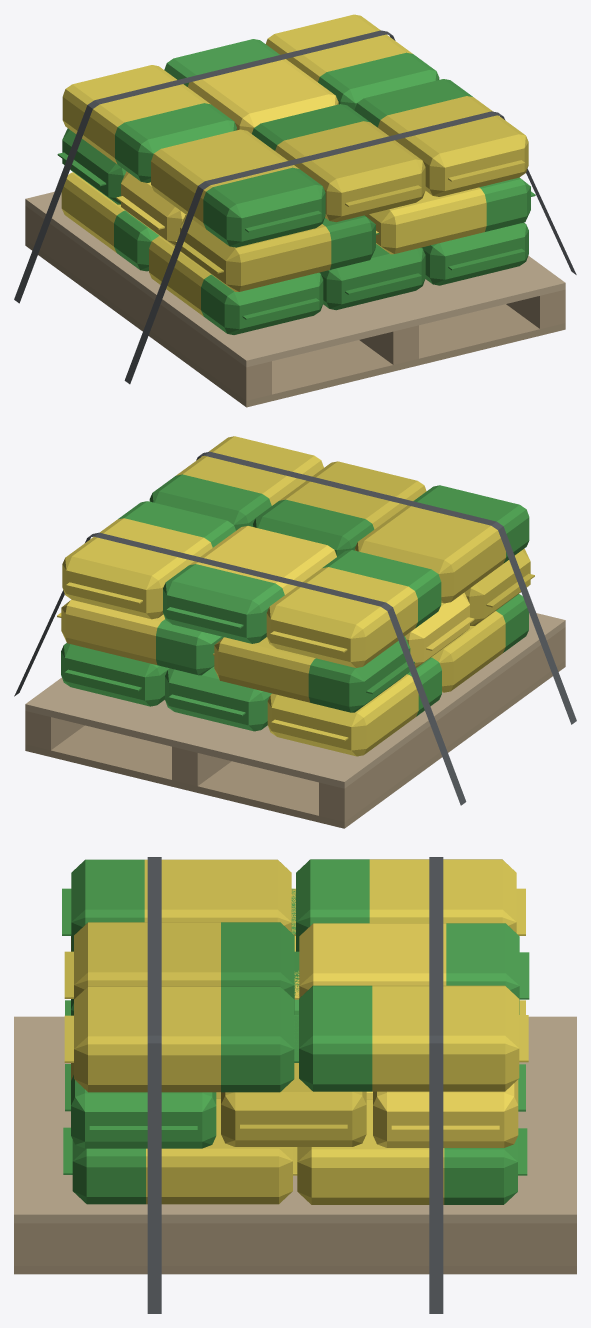
The model's file is potting-soil-pallet.glb.
The picture shows the model from 3 angles, top to bottom: view 1: azimuth 30°, elevation 25°; view 2: azimuth 150°, elevation 25°; view 3: azimuth 270°, elevation 25°; orthographic projection. The views are drawn at different scales.
Parts seen in each view (by area): view 1: PottingSoilPallet_SoilBag, PottingSoilPallet_SoilPrint, PottingSoilPallet_PalletWood, PottingSoilPallet_Strap; view 2: PottingSoilPallet_SoilBag, PottingSoilPallet_SoilPrint, PottingSoilPallet_PalletWood, PottingSoilPallet_Strap; view 3: PottingSoilPallet_SoilBag, PottingSoilPallet_PalletWood, PottingSoilPallet_SoilPrint, PottingSoilPallet_Strap.
Part boxes in pixels (x1,y1,x2,y2): PottingSoilPallet_SoilBag: (61, 14, 528, 316); PottingSoilPallet_SoilPrint: (57, 39, 535, 334); PottingSoilPallet_PalletWood: (25, 191, 565, 407); PottingSoilPallet_Strap: (14, 30, 576, 384); PottingSoilPallet_SoilBag: (57, 436, 534, 756); PottingSoilPallet_SoilPrint: (61, 474, 529, 731); PottingSoilPallet_PalletWood: (25, 613, 565, 828); PottingSoilPallet_Strap: (14, 451, 576, 805); PottingSoilPallet_SoilBag: (64, 859, 528, 1204); PottingSoilPallet_PalletWood: (14, 1016, 576, 1274); PottingSoilPallet_SoilPrint: (62, 859, 529, 1204); PottingSoilPallet_Strap: (147, 857, 443, 1313).
Size of the model in its own units: 1.4 by 0.538 by 1.2.
